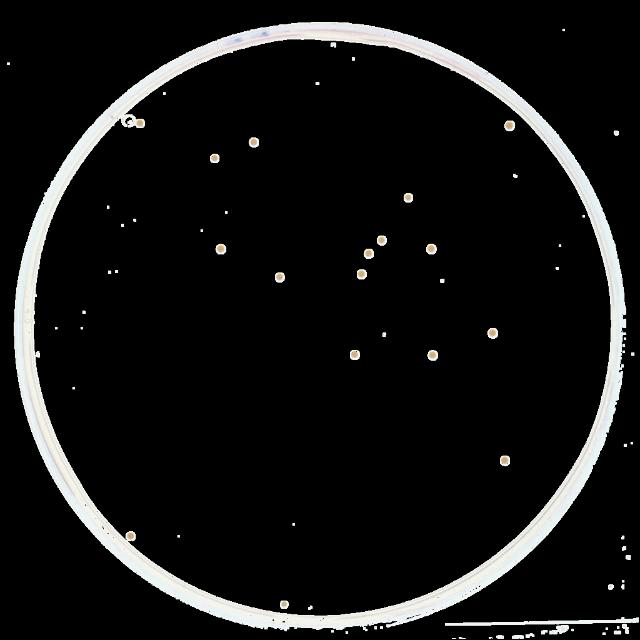colony: (498, 455, 512, 467), (487, 326, 501, 338), (215, 244, 227, 256), (127, 528, 137, 542), (426, 350, 440, 360), (279, 600, 289, 610), (249, 138, 259, 148), (274, 272, 284, 282), (357, 269, 367, 279), (426, 244, 436, 254), (502, 120, 514, 128), (135, 119, 145, 128), (352, 349, 361, 358), (210, 154, 218, 164), (364, 250, 374, 258), (378, 236, 387, 244), (403, 194, 412, 202), (382, 332, 388, 338), (439, 278, 446, 282), (554, 268, 560, 272), (514, 172, 518, 176), (581, 214, 585, 218), (560, 240, 562, 243)
